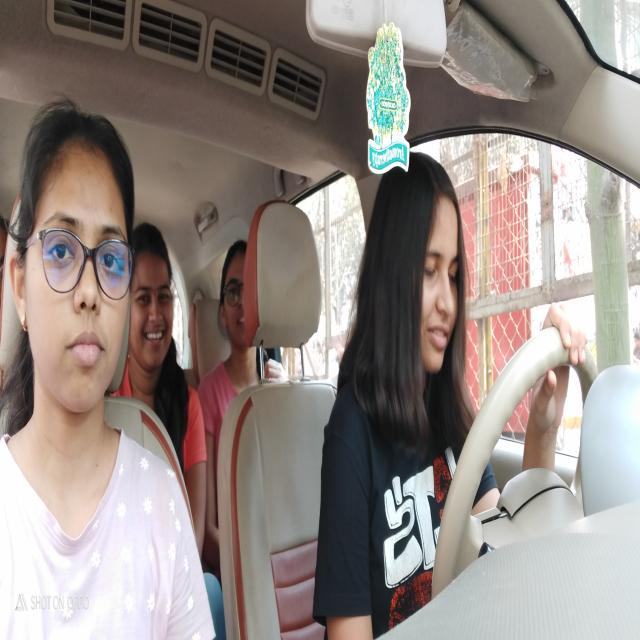drowsy: (372, 160, 464, 374)
person: (14, 115, 136, 417), (133, 220, 180, 366), (219, 240, 256, 355)
